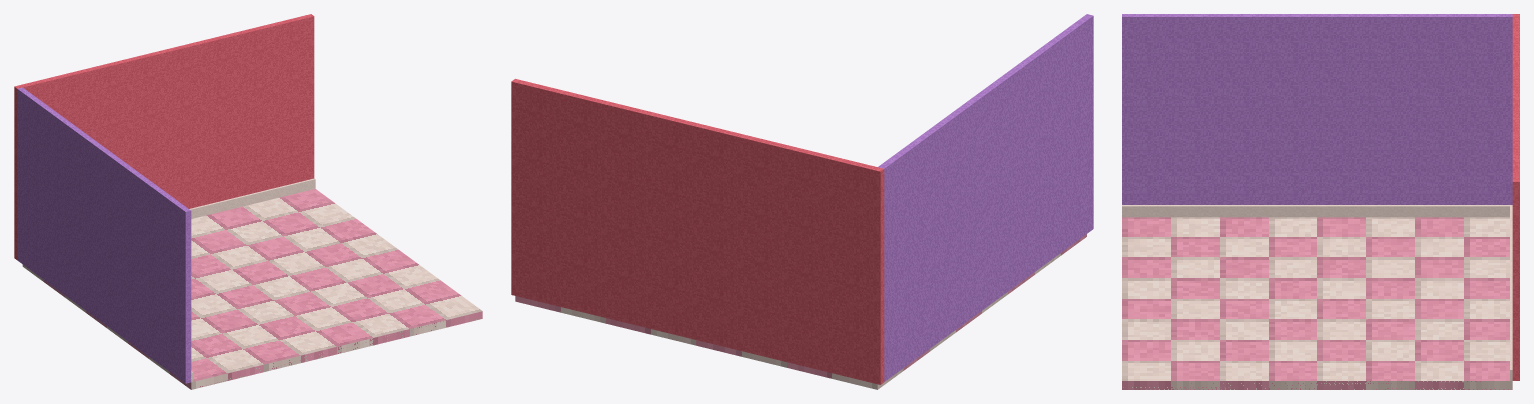
Rendered from room_shell.glb.
3 views of the same model, side by side, from view 1: azimuth 30°, elevation 25°; view 2: azimuth 150°, elevation 25°; view 3: azimuth 270°, elevation 25° (orthographic). The views are drawn at different scales.
Visible parts, largest first — view 1: Floor, WallBack, WallLeft, SkirtingBack; view 2: WallBack, WallLeft, Floor; view 3: WallLeft, Floor, SkirtingLeft, WallBack, SkirtingBack.
Part boxes in pixels (x1,y1,x2,y2): Floor: [22, 189, 482, 389]; WallBack: [14, 14, 314, 259]; WallLeft: [17, 87, 191, 383]; SkirtingBack: [189, 178, 315, 218]; WallBack: [511, 78, 884, 384]; WallLeft: [878, 14, 1093, 381]; Floor: [515, 234, 1086, 389]; WallLeft: [1122, 14, 1512, 204]; Floor: [1122, 217, 1512, 389]; SkirtingLeft: [1122, 205, 1512, 217]; WallBack: [1512, 14, 1519, 380]; SkirtingBack: [1510, 205, 1512, 380].
Bounding box in the file's own units: 16.3 × 9.4 × 16.3.
4 materials, 4 textured.
